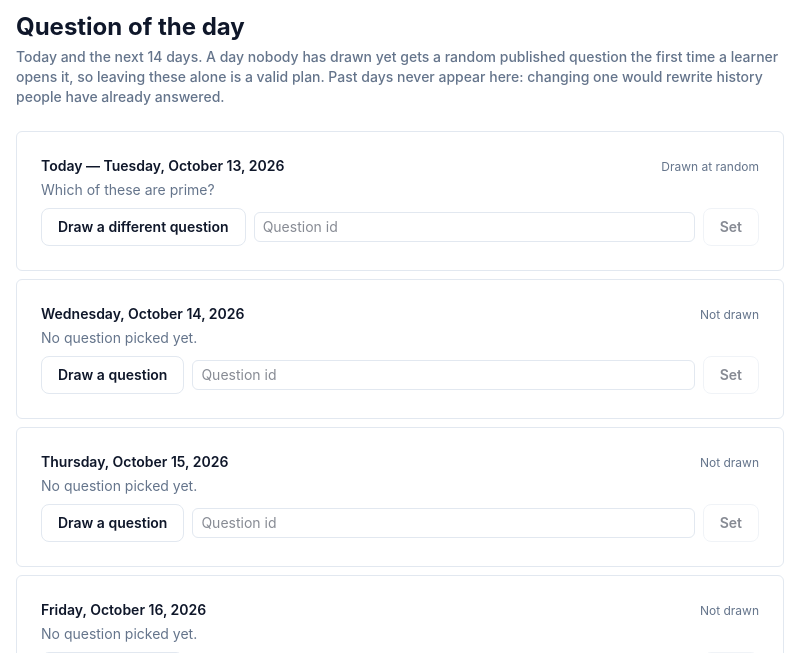
Scenario: DailyQuestionAdminPage › surfaces the server's refusal rather than a generic failure
Click the button "Draw a different question" at {"x": 143, "y": 227}, box [41, 208, 246, 246]
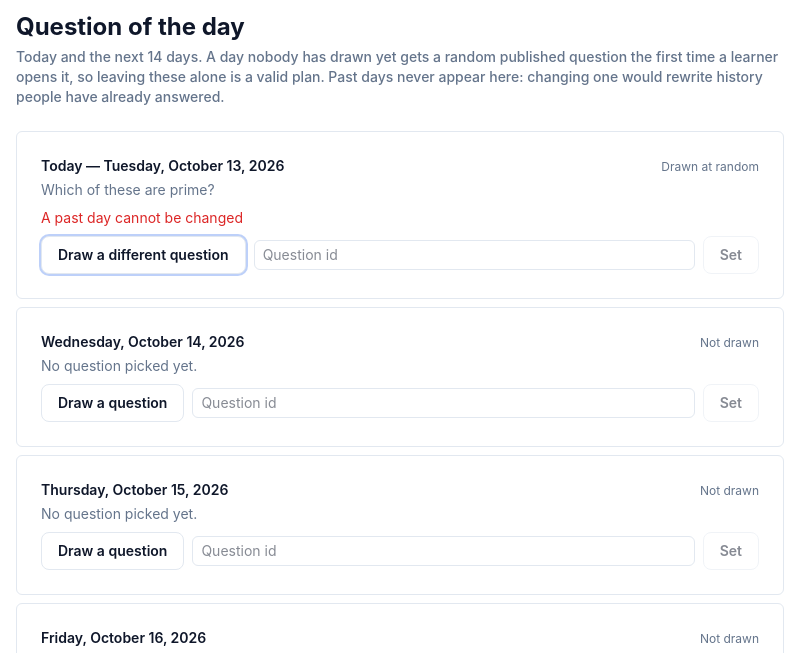
Result: the message reads "A past day cannot be changed" at [41, 209, 243, 226]
